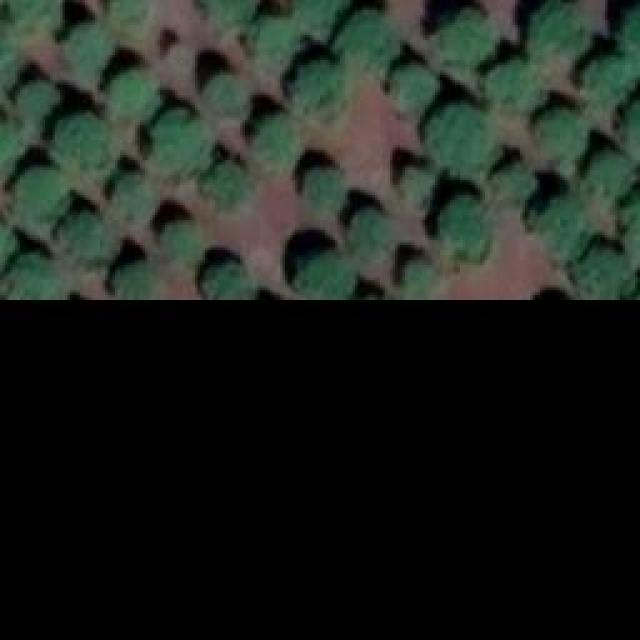Tree: (420, 103, 495, 168), (430, 3, 500, 66), (473, 55, 546, 110), (433, 195, 493, 260), (280, 240, 353, 293), (10, 168, 73, 228), (530, 3, 590, 63), (290, 55, 350, 113), (530, 198, 588, 258), (530, 105, 585, 168), (63, 112, 118, 170), (153, 107, 208, 165), (242, 110, 300, 165), (572, 240, 630, 295), (60, 210, 113, 263), (343, 208, 396, 261), (3, 255, 68, 298), (340, 10, 390, 65), (580, 58, 635, 108), (105, 70, 158, 118), (198, 70, 251, 118), (490, 153, 538, 206), (58, 23, 108, 73), (190, 257, 250, 295), (255, 13, 300, 63), (390, 62, 435, 110), (17, 78, 65, 121), (107, 258, 165, 293), (113, 173, 156, 218), (300, 165, 345, 208), (205, 163, 248, 206), (588, 150, 631, 193), (292, 0, 345, 32), (400, 163, 435, 206), (615, 0, 640, 60), (157, 218, 195, 253), (403, 255, 438, 293), (10, 0, 60, 25), (110, 0, 150, 30), (203, 0, 258, 20), (0, 215, 18, 275), (0, 15, 18, 68)
